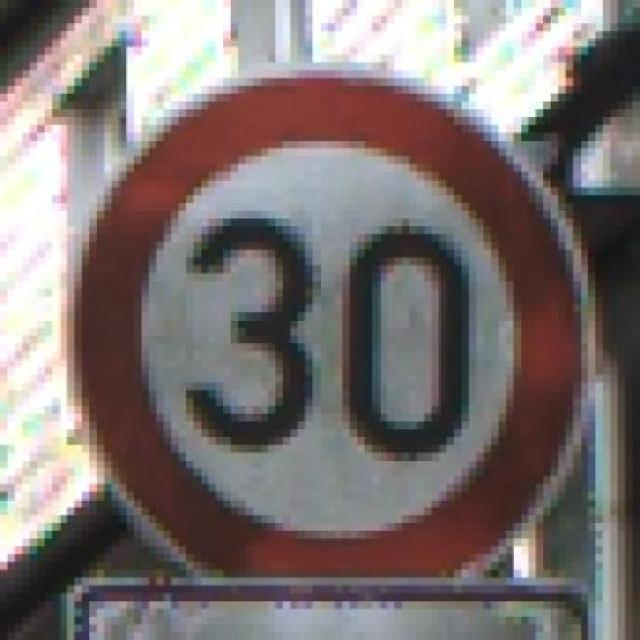Speed Limit 30 KMPh: (37, 47, 611, 601)
